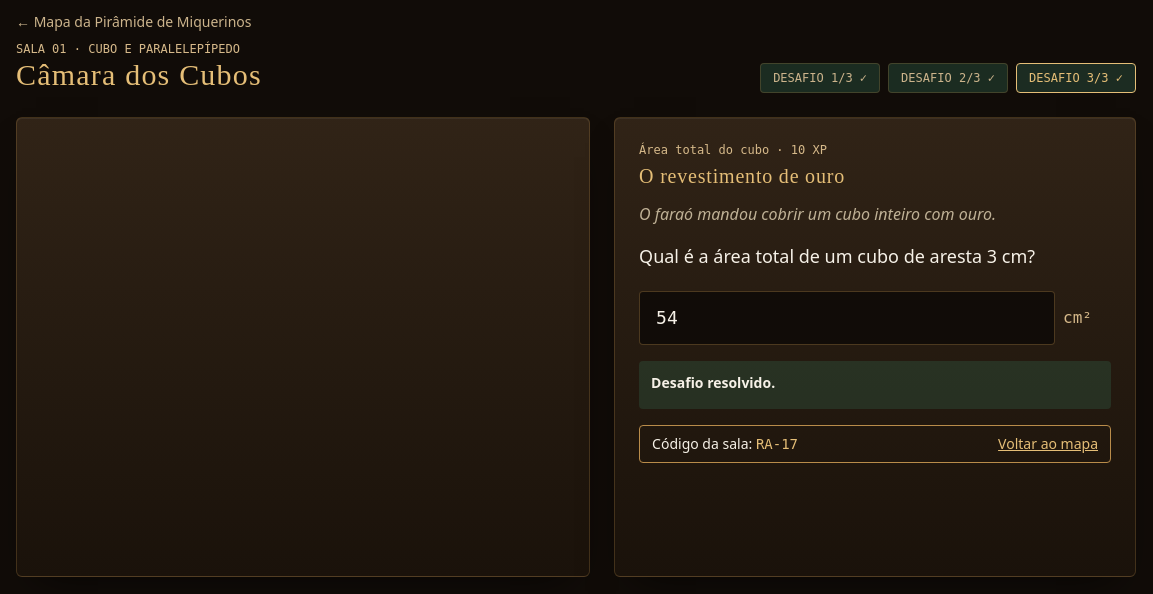
it: Room code release › starts a completed room at its last challenge and hides the code when reviewing the first
Check: the text "RA-17" is shown, box [756,436,798,452]
Click the button "DESAFIO 1/3 ✓" at (820, 78), box [760,63,880,93]
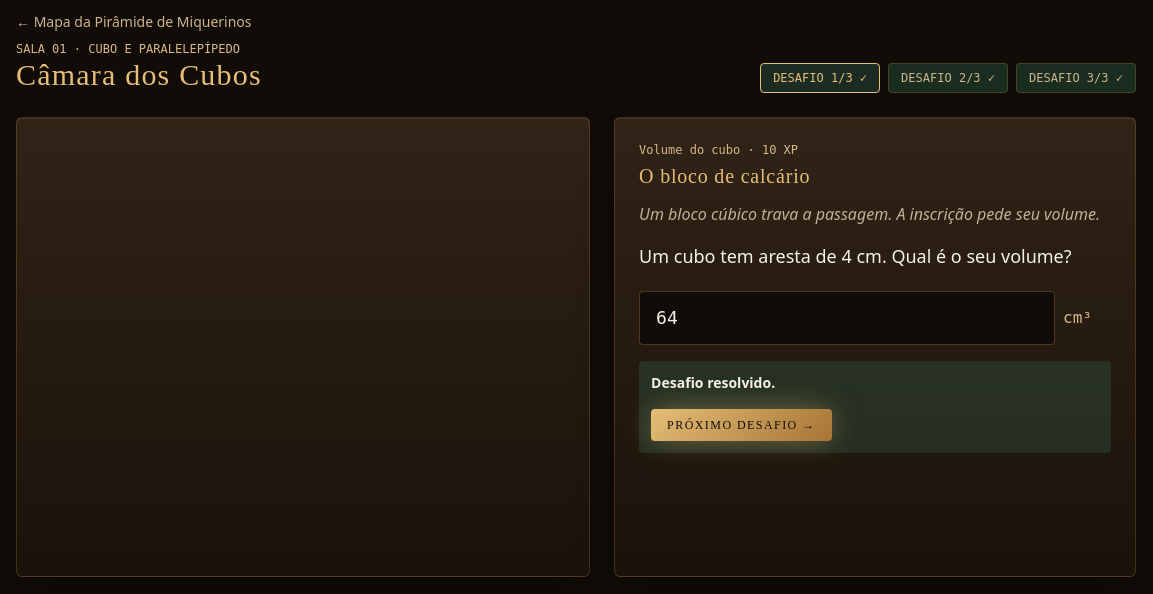
Check: the text "RA-17" is gone
